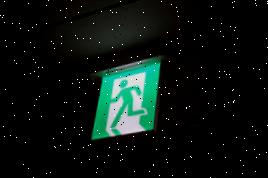emergency_exit: (90, 55, 162, 141)
